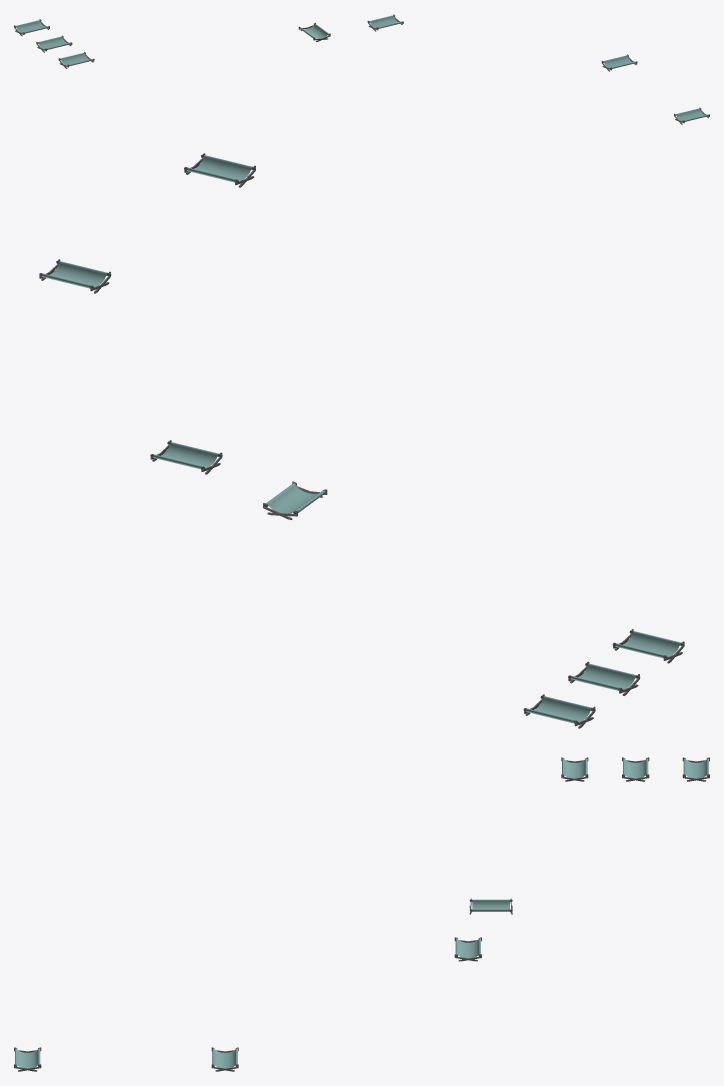
3 views of the same model, one above another, from view 1: azimuth 30°, elevation 25°; view 2: azimuth 150°, elevation 25°; view 3: azimuth 270°, elevation 25° (orthographic). The views are drawn at different scales.
Parts seen in each view (by area): view 1: colored; view 2: colored; view 3: colored.
Part boxes in pixels (box(x1,y1,x2,y2)): colored: box(14, 14, 709, 124); colored: box(39, 153, 684, 728); colored: box(14, 757, 709, 1071).
Size of the model in its own units: 45.83 by 1.47 by 45.79.
